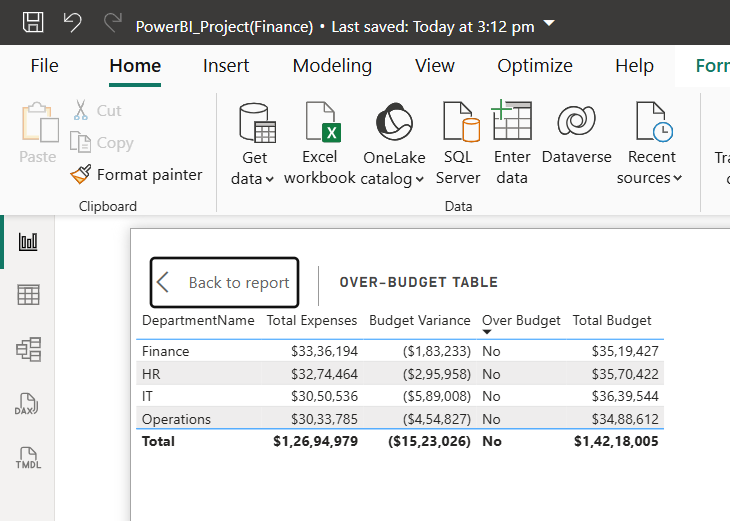

The dashboard page shown, as its layout file describes it:
{"tool":"powerbi","page":{"name":"Page 4","canvas":[1280,720],"ordinal":3},"visuals":[{"type":"tableEx","title":"Over-Budget Table","fields":{"Values":["Departments.DepartmentName","Measures (2).Total Expenses","Measures (2).Budget Variance","Measures (2).Over Budget","Measures (2).Total Budget"]},"box":[141.7,156.7,538.3,173.3],"z":0}]}

Visuals, with their boxes on the page's 1280x720 design canvas (x1, y1, x2, y2). These are canvas units, not pixel positions in the 730x521 screenshot, which may show the page scaled, cropped or inside an application window:
"Over-Budget Table" tableEx: [142, 157, 680, 330]
